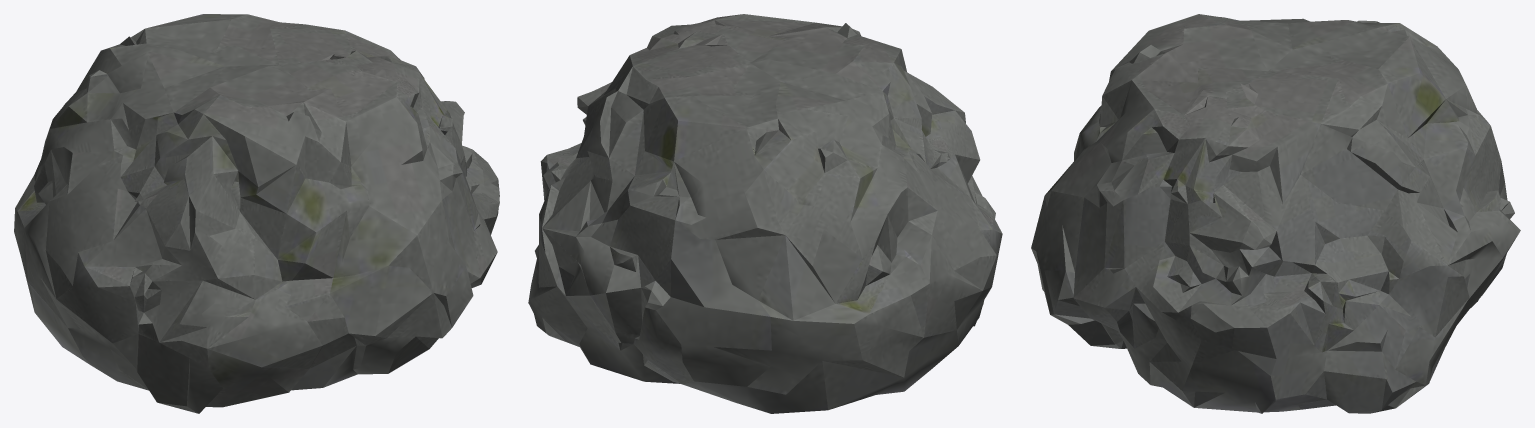
File: rock.glb
3 renders of one model, left to right at view 1: azimuth 30°, elevation 25°; view 2: azimuth 150°, elevation 25°; view 3: azimuth 270°, elevation 25°, orthographic. The views are drawn at different scales.
Parts seen in each view (by area): view 1: Mesh_0; view 2: Mesh_0; view 3: Mesh_0.
Part boxes in pixels (x1,y1,x2,y2): Mesh_0: [14, 14, 499, 413]; Mesh_0: [528, 14, 1002, 413]; Mesh_0: [1031, 14, 1520, 413].
Bounding box in the file's own units: 1.9 × 1.17 × 1.8.
1 material, 1 textured.
